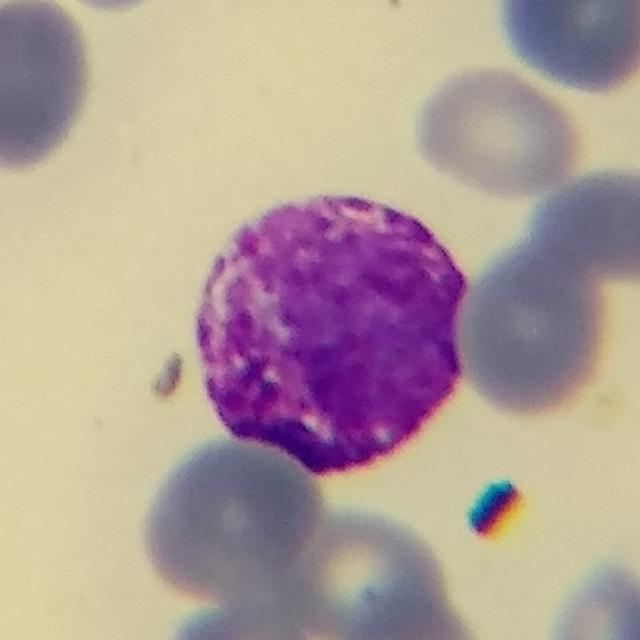Basophil: (176, 168, 483, 493)
Platelets: (462, 476, 531, 544)
RBC: (132, 429, 328, 606), (451, 232, 621, 420), (274, 497, 464, 639), (408, 60, 590, 200), (0, 0, 102, 178), (491, 0, 640, 98), (545, 162, 640, 292), (537, 552, 640, 640), (332, 589, 491, 640), (158, 594, 325, 640), (24, 0, 194, 14)
